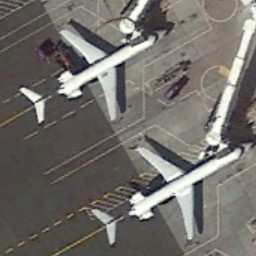Airplane: (85, 126, 255, 250), (13, 11, 174, 131)
